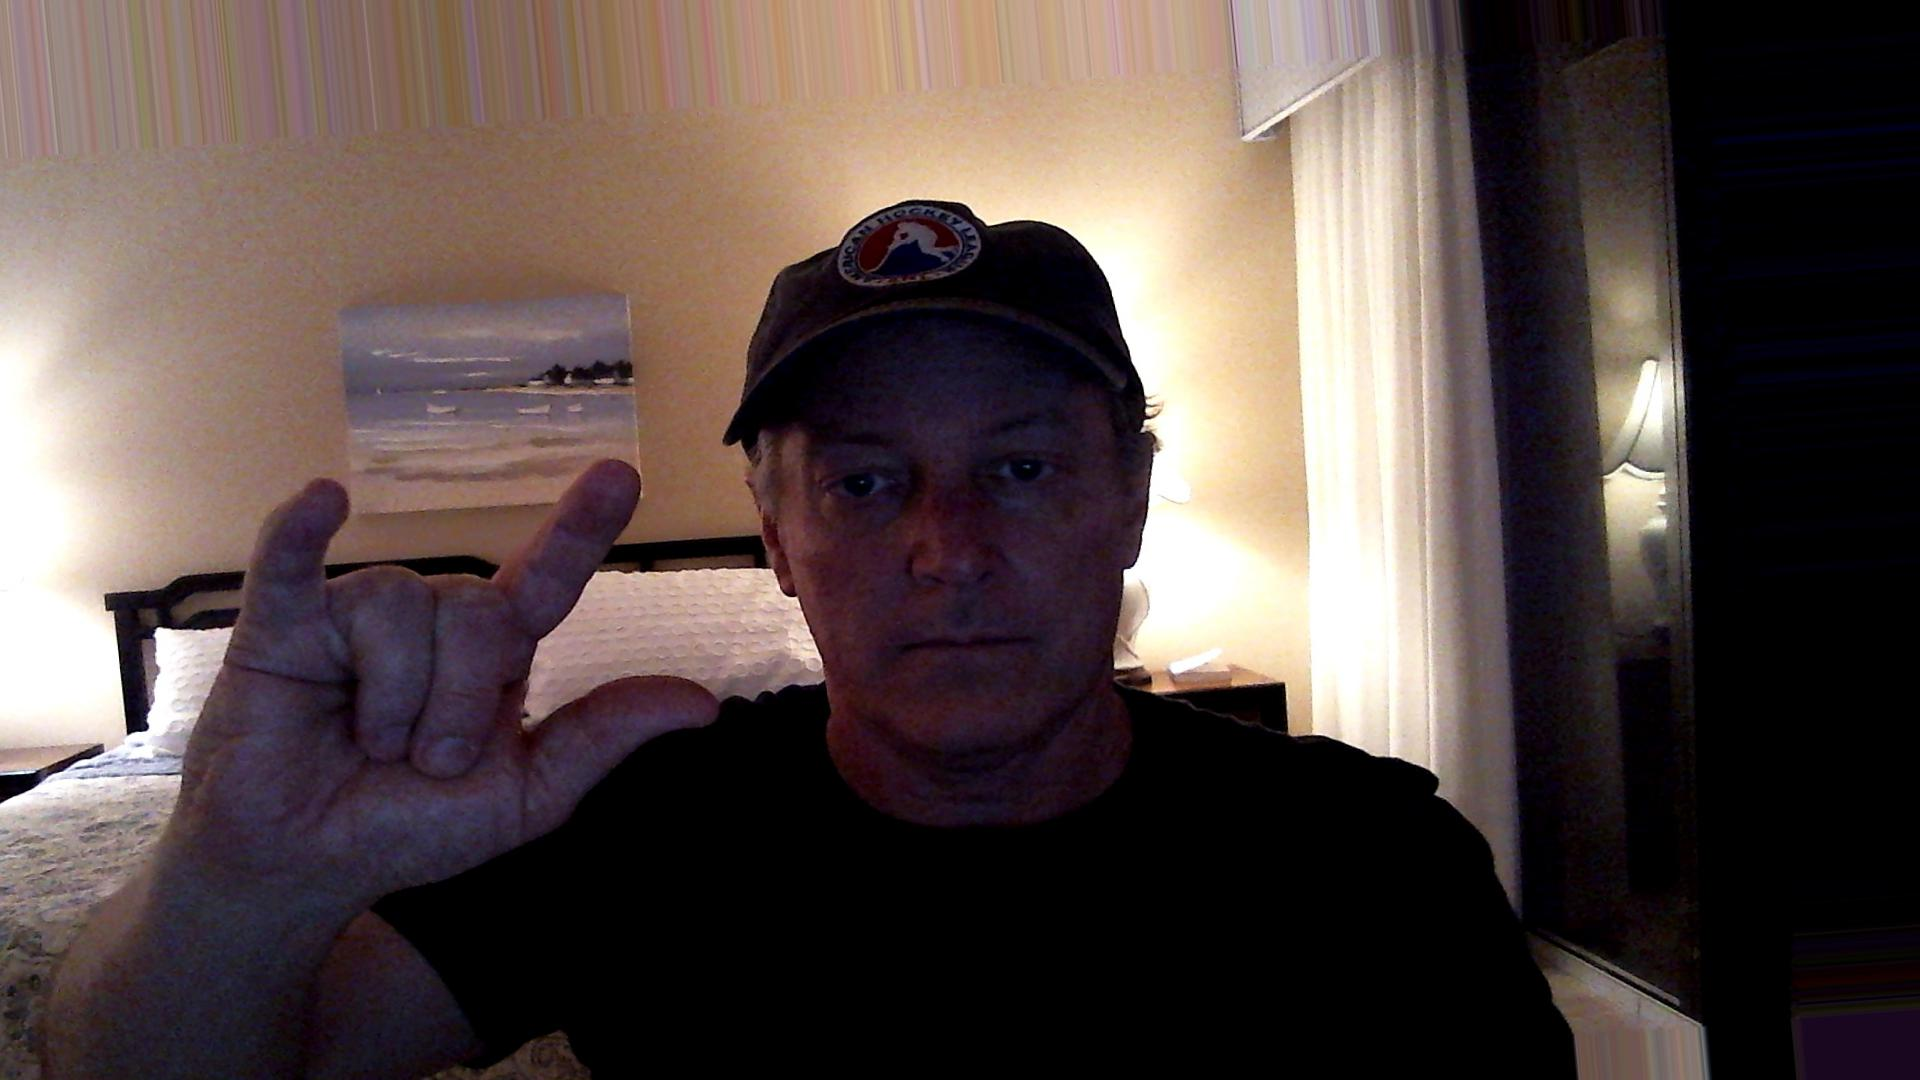I Love You: (161, 446, 741, 887)
